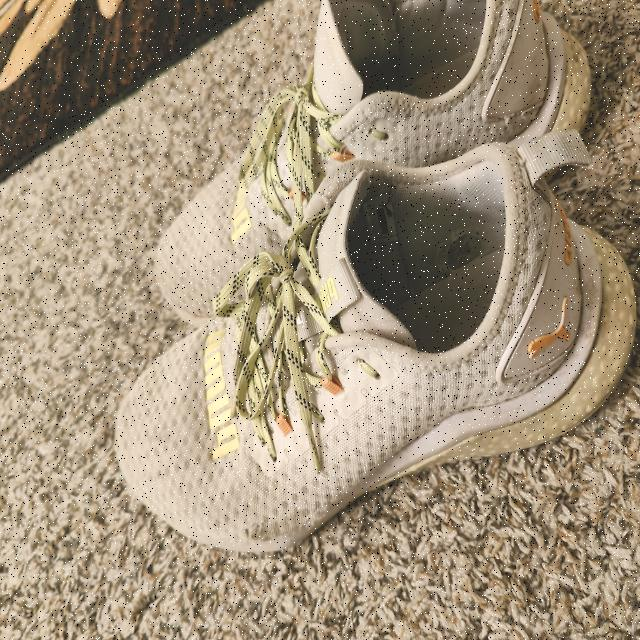white shoes: (119, 0, 636, 554)
